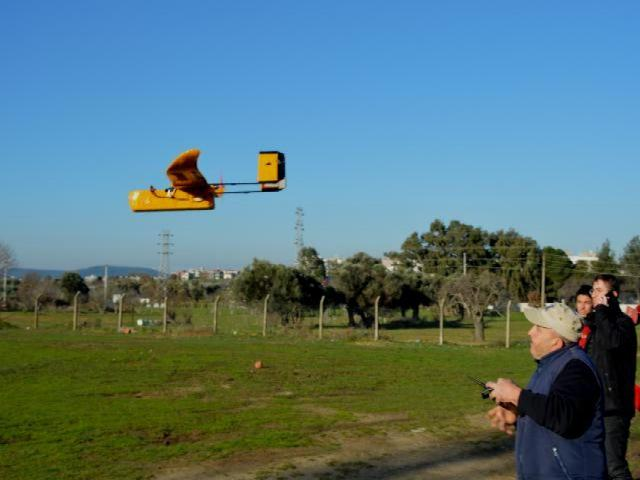iha: (121, 141, 288, 214)
